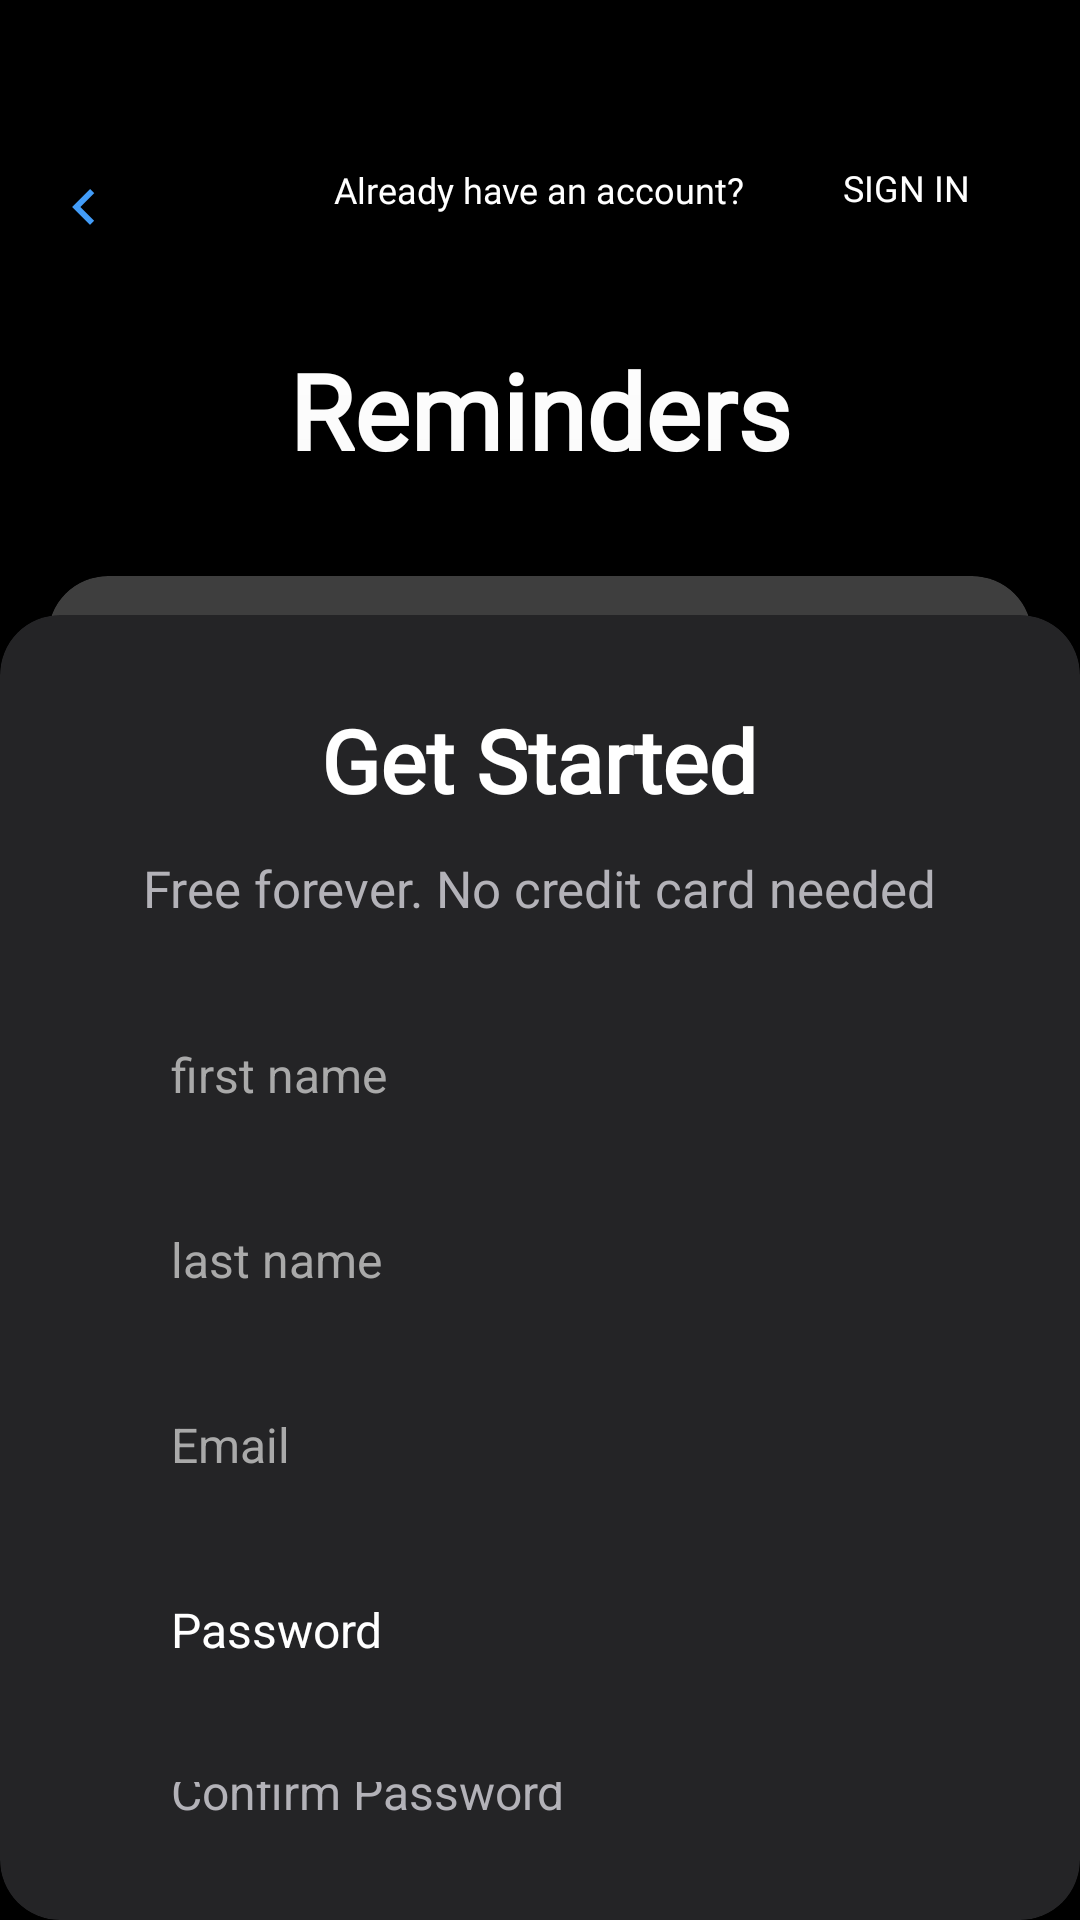

Where to tap for icons on this 1080 × 1920 app screen, as (x,y):
arrow left: (83,207)
